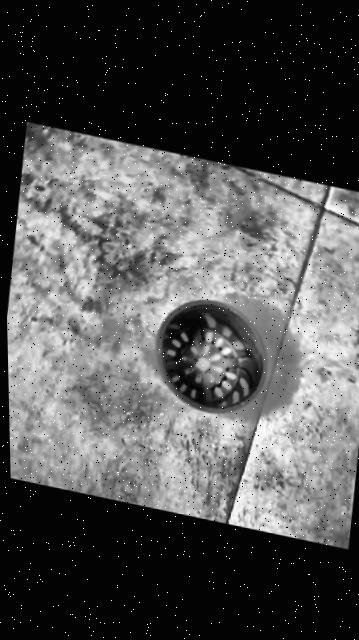pot: (149, 289, 273, 426)
